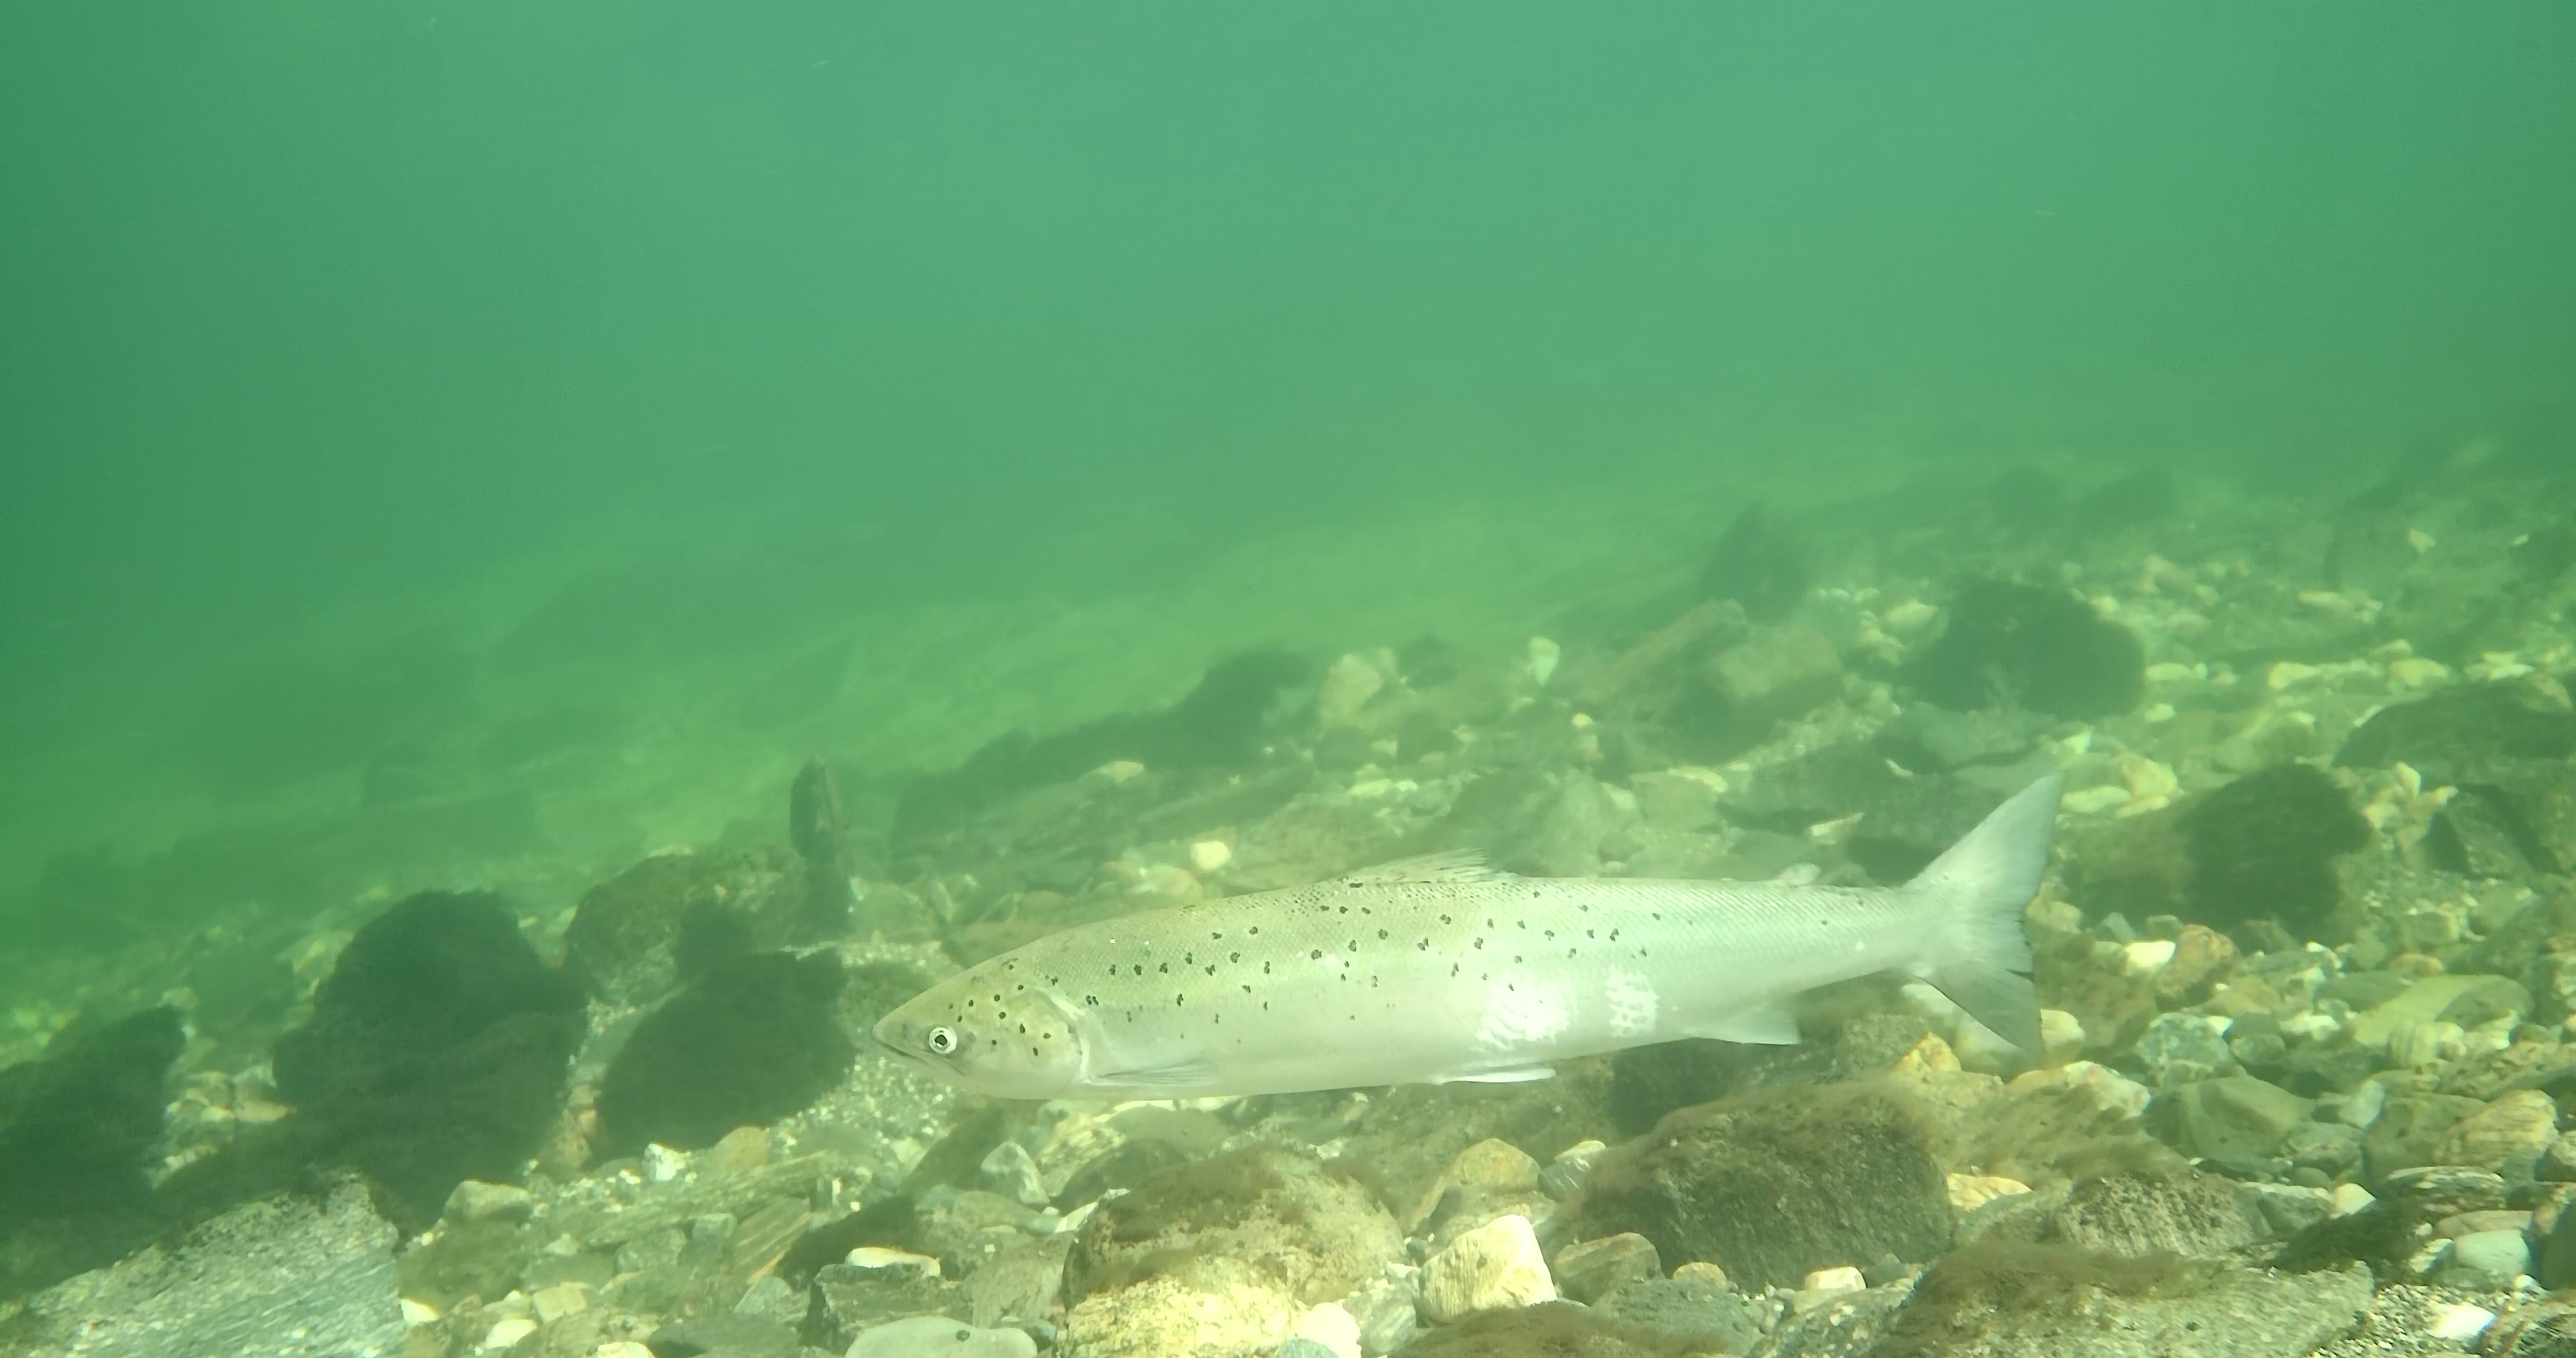salmon: (867, 770, 2070, 1106)
